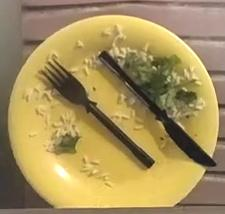rice: (109, 25, 198, 120)
